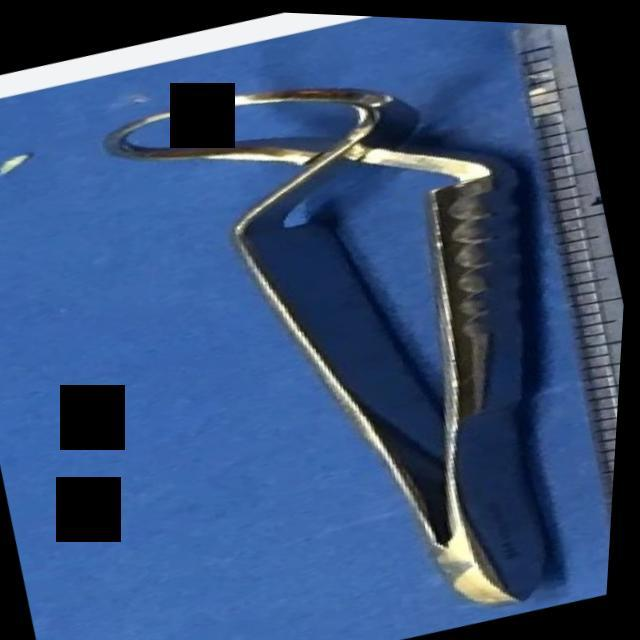Jones Towel Clamp: (70, 11, 640, 640)
